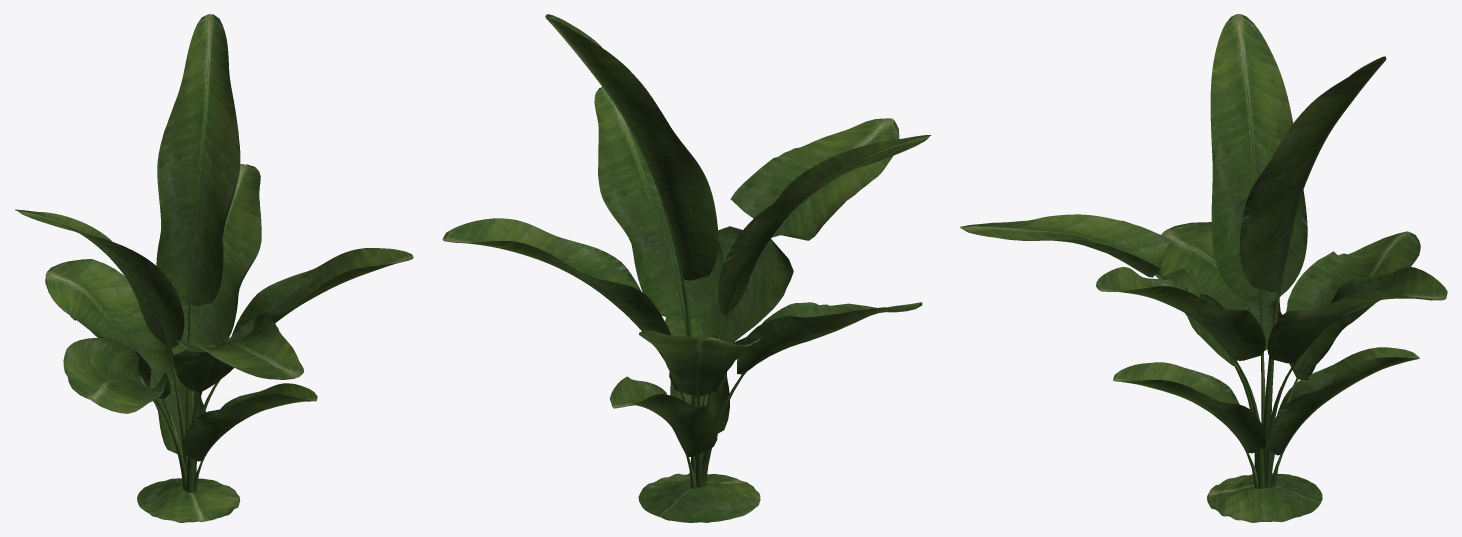
File: Plant2.obj
The picture shows the model from 3 angles, left to right: view 1: azimuth 30°, elevation 25°; view 2: azimuth 150°, elevation 25°; view 3: azimuth 270°, elevation 25°; orthographic projection. The views are drawn at different scales.
Visible parts, largest first — view 1: Plants_Set_Leaves_1-material, Plants_Set_Leaves_2-material, Plants_Set_trunk_01-material, red_dirt_mud_01-material.003; view 2: Plants_Set_Leaves_1-material, Plants_Set_Leaves_2-material, red_dirt_mud_01-material.003, Plants_Set_trunk_01-material; view 3: Plants_Set_Leaves_1-material, Plants_Set_Leaves_2-material, Plants_Set_trunk_01-material, red_dirt_mud_01-material.003.
Boxes of the visible parts, x1,y1,x2,y2 form: Plants_Set_Leaves_1-material: [15, 14, 413, 453]; Plants_Set_Leaves_2-material: [45, 164, 317, 461]; Plants_Set_trunk_01-material: [32, 22, 310, 492]; red_dirt_mud_01-material.003: [137, 478, 240, 522]; Plants_Set_Leaves_1-material: [545, 14, 931, 456]; Plants_Set_Leaves_2-material: [442, 218, 922, 433]; red_dirt_mud_01-material.003: [638, 473, 760, 522]; Plants_Set_trunk_01-material: [456, 22, 907, 488]; Plants_Set_Leaves_1-material: [960, 14, 1419, 455]; Plants_Set_Leaves_2-material: [1113, 222, 1447, 453]; Plants_Set_trunk_01-material: [967, 22, 1430, 488]; red_dirt_mud_01-material.003: [1207, 473, 1322, 522].
Size of the model in its own units: 0.8424 by 1.02 by 0.9403.
Materials: 4 (4 with a texture image).
